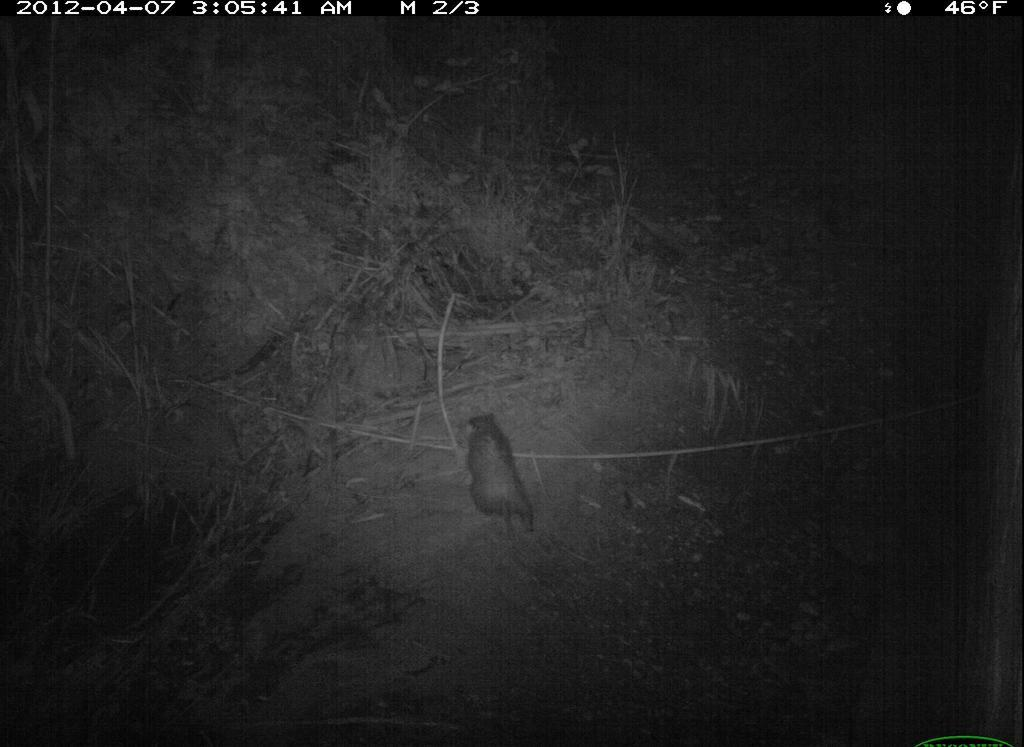opossum: (452, 400, 546, 547)
